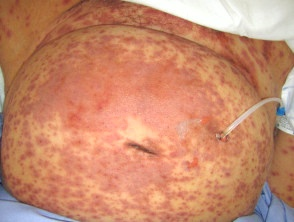SJS-TEN: (6, 0, 284, 222)
